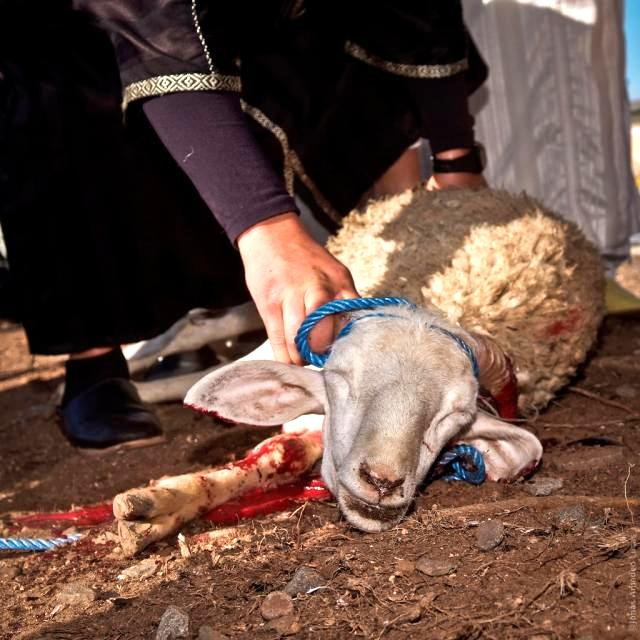sheep: (140, 182, 605, 532)
